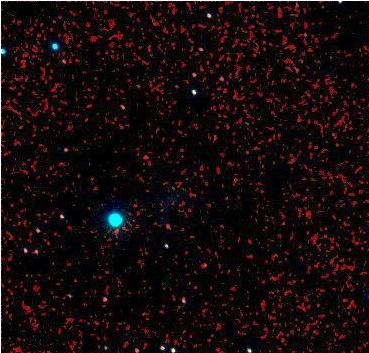star: (127, 136, 157, 166)
